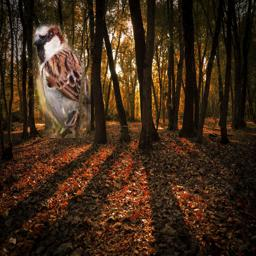Sparrow: (32, 20, 91, 138)
